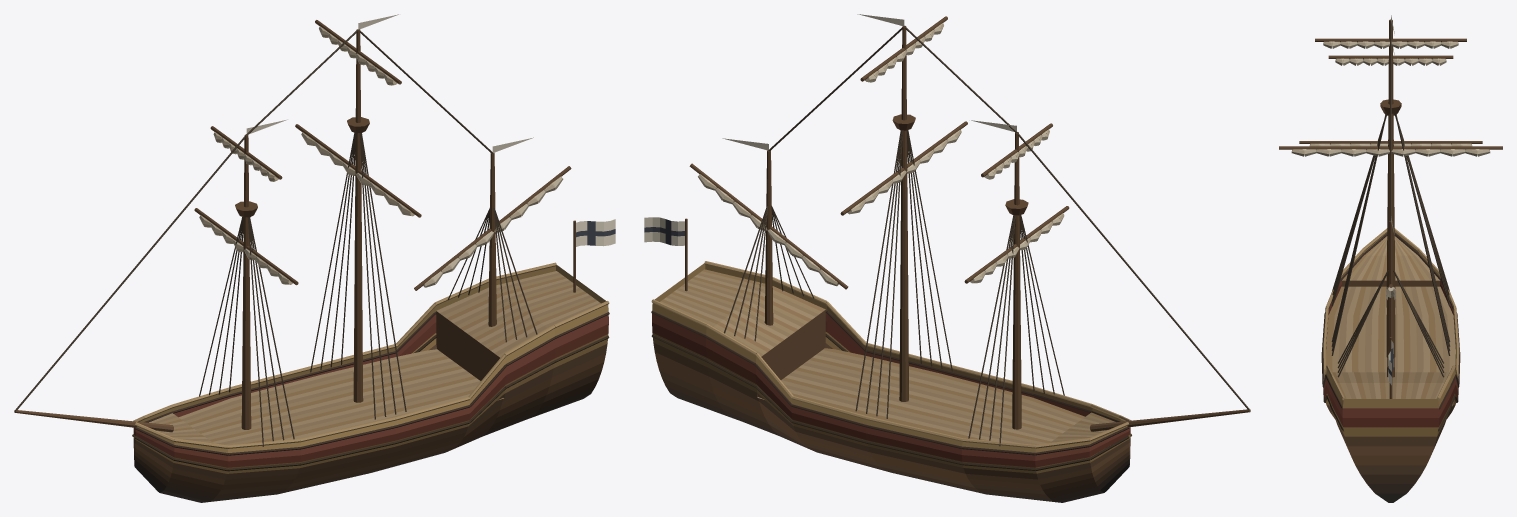
File: ship.glb
3 views of the same model, side by side, from view 1: azimuth 30°, elevation 25°; view 2: azimuth 150°, elevation 25°; view 3: azimuth 270°, elevation 25° (orthographic). The views are drawn at different scales.
Visible parts, largest first — view 1: ship_hull, stern_flag; view 2: ship_hull, stern_flag; view 3: ship_hull.
Boxes of the visible parts, box(x1,y1,x2,y2) form: ship_hull: box(14, 14, 609, 502); stern_flag: box(576, 219, 615, 246); ship_hull: box(651, 14, 1250, 502); stern_flag: box(644, 217, 684, 245); ship_hull: box(1279, 15, 1502, 502).
Size of the model in its own units: 32.25 by 22.95 by 11.44.
